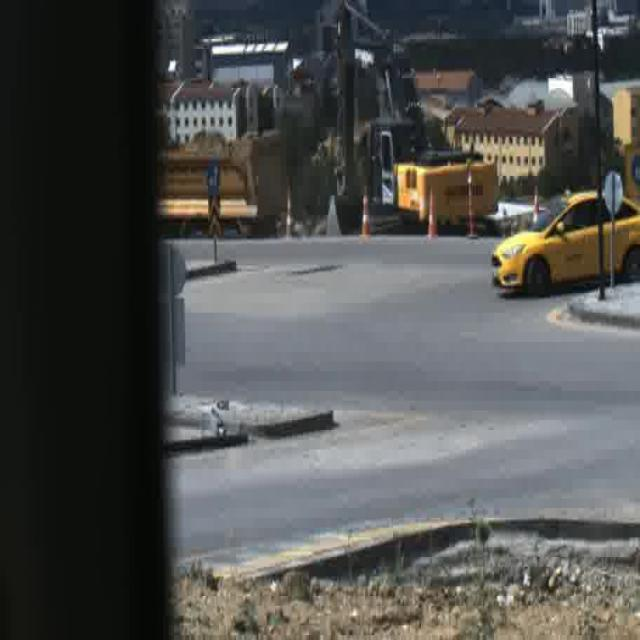Car: (492, 186, 640, 292)
